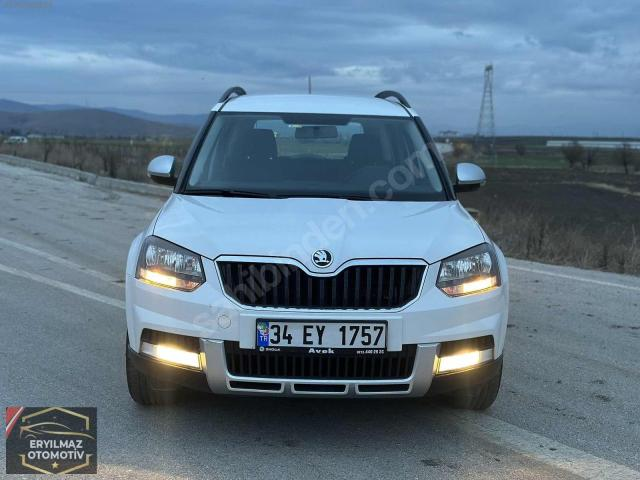plaka: (256, 320, 386, 354)
